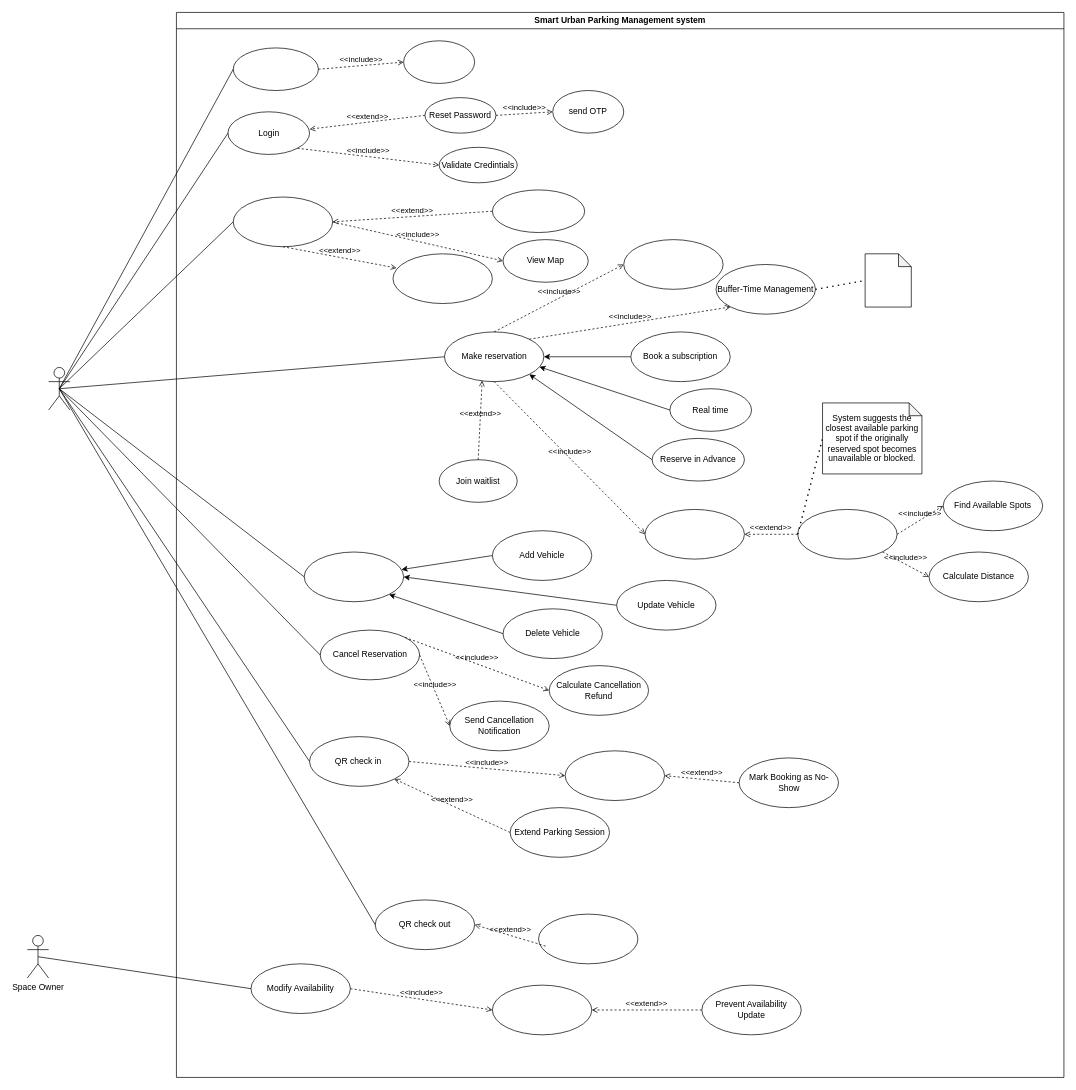
This 1076x1090 diagram has some shape labels left out. Each missing label, with the centre of its shape:
Adds 10-minute gap between bookings: the point at 887,280
Check Reservation Conflict: the point at 542,1009
Driver: the point at 59,388
Filter Results: the point at 538,211
Handle Grace Period: the point at 614,775
Manage vehicle profile: the point at 354,576
Prevent Blind Spot: the point at 442,278
Receive Overstay notification: the point at 588,938
Register: the point at 275,69
Search Parking spots: the point at 283,221
Select Spot: the point at 694,534
Select Vehicle Profile: the point at 673,264
Suggest Nearby Alternative Spot: the point at 847,534
Verify Email: the point at 439,61
